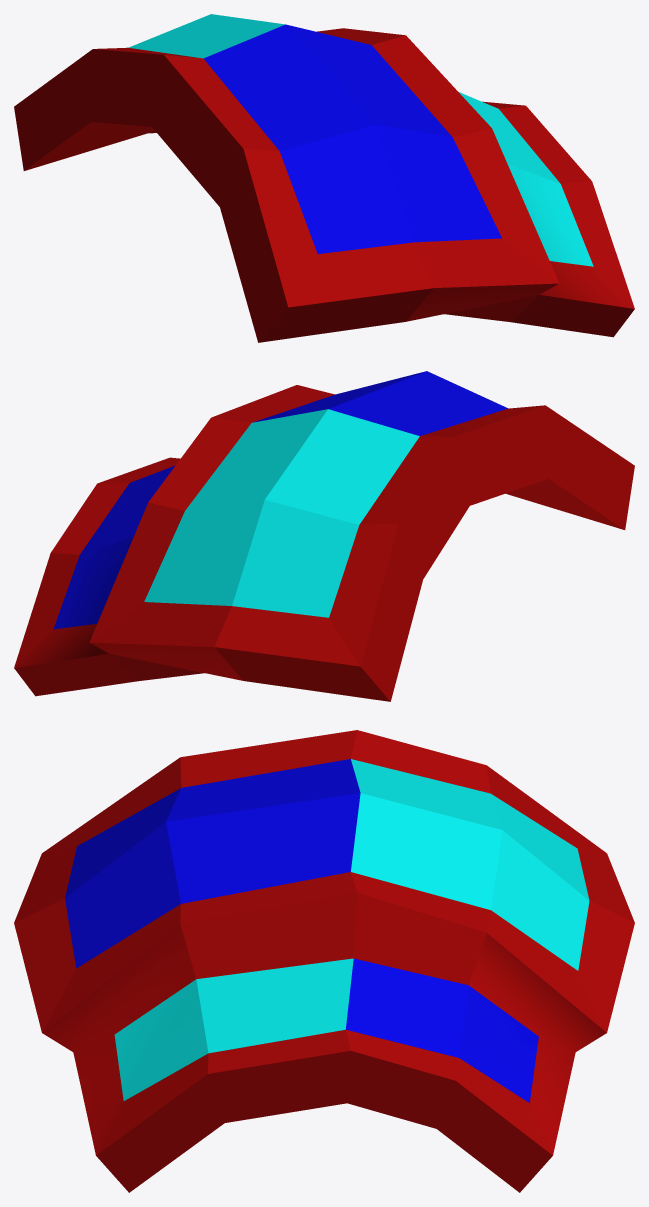
The model's file is Chr_ShoulderAttachLeft_Static_16.fbx.
3 renders of one model, top to bottom at view 1: azimuth 30°, elevation 25°; view 2: azimuth 150°, elevation 25°; view 3: azimuth 270°, elevation 25°, orthographic. The views are drawn at different scales.
Parts seen in each view (by area): view 1: Chr_ShoulderAttachLeft_16; view 2: Chr_ShoulderAttachLeft_16; view 3: Chr_ShoulderAttachLeft_16.
Boxes of the visible parts, x1,y1,x2,y2 form: Chr_ShoulderAttachLeft_16: [14, 14, 634, 342]; Chr_ShoulderAttachLeft_16: [14, 371, 634, 701]; Chr_ShoulderAttachLeft_16: [14, 730, 634, 1192].
Size of the model in its own units: 18.09 by 12.35 by 23.75.
